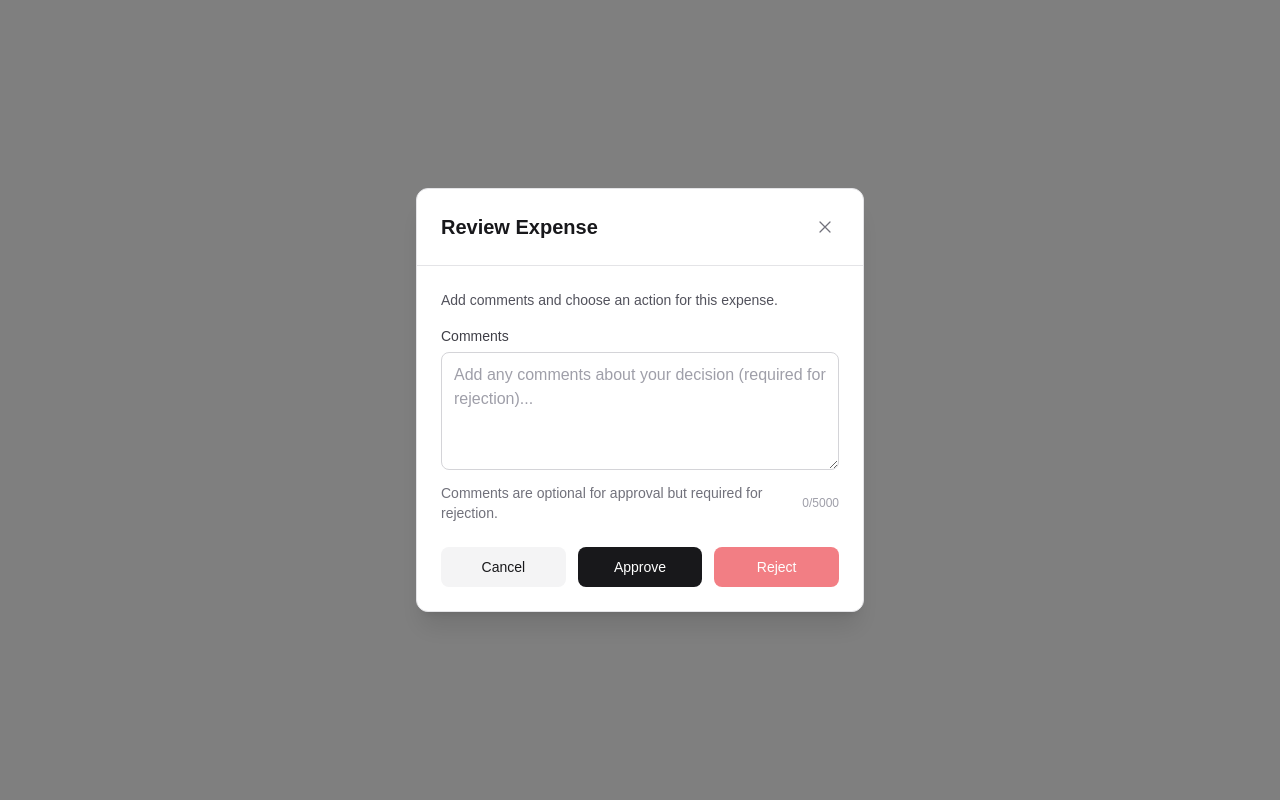
ApprovalModal › Approve Functionality › should handle approval API error
Click the button "Approve".
click(640, 567)  # box top-left (578, 547), bottom-right (702, 587)
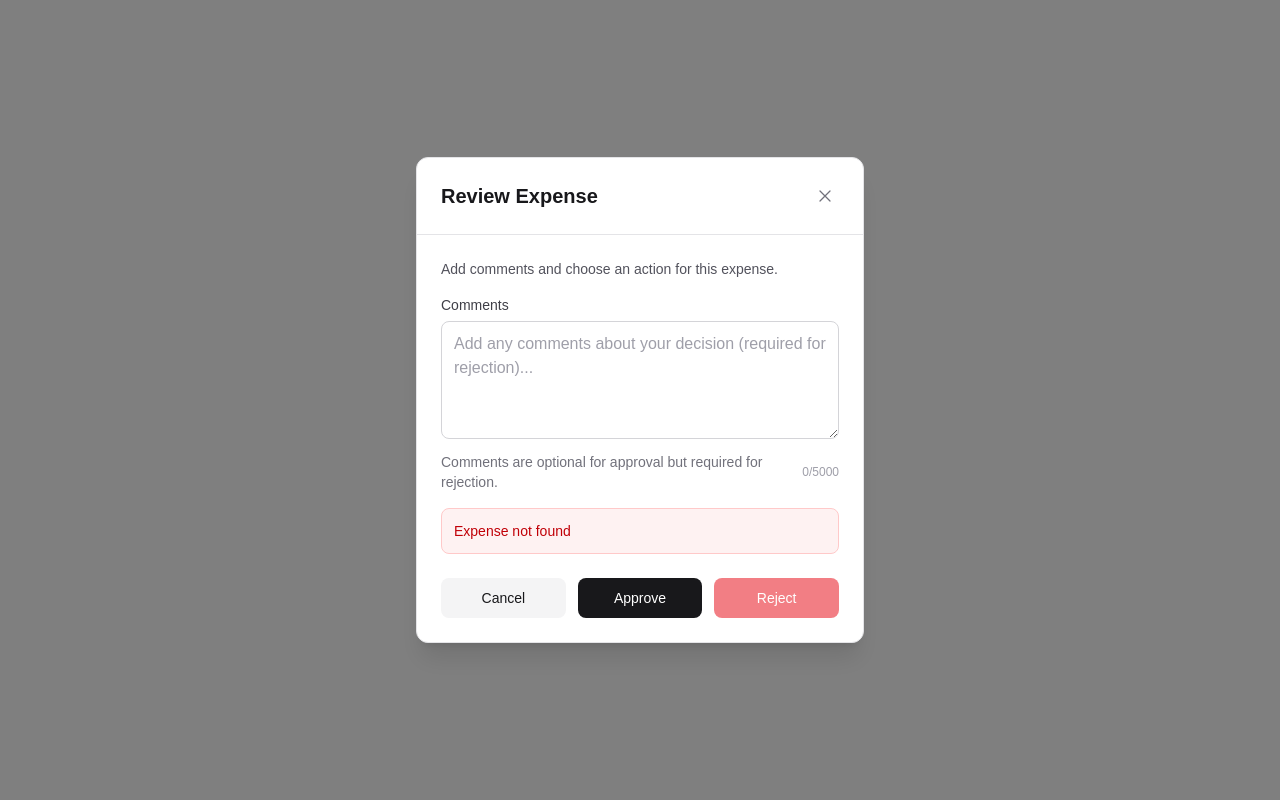
Now the text "Expense not found" is shown, box top-left (454, 523), bottom-right (571, 539)
